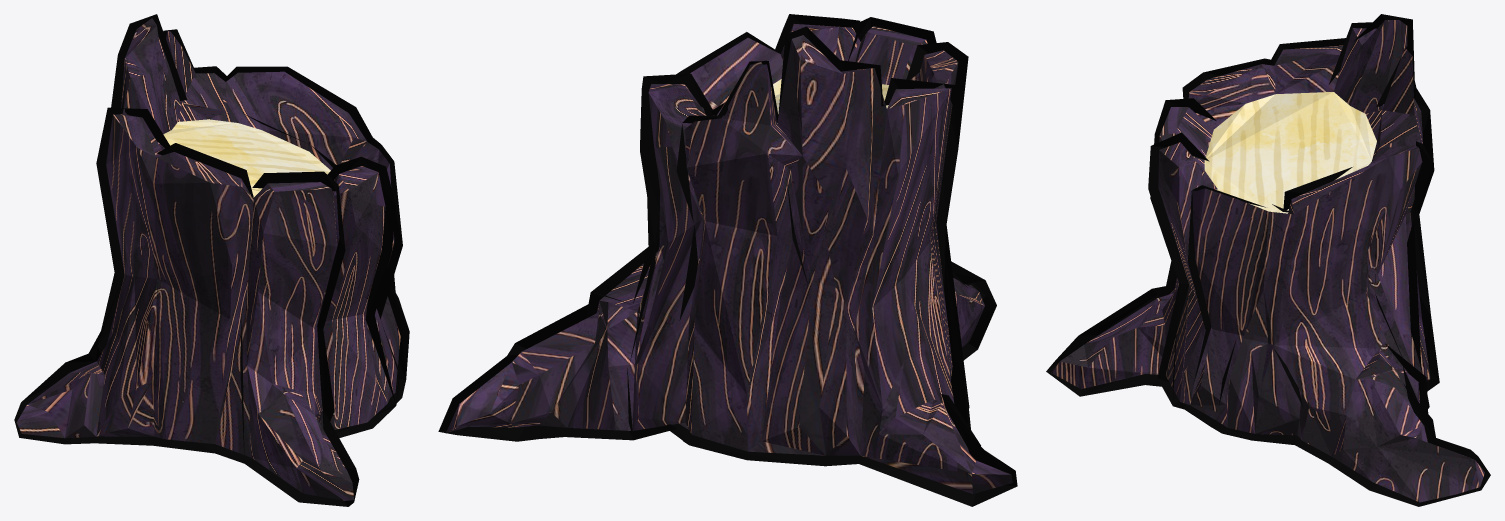
File: entity165116.gltf
The picture shows the model from 3 angles, left to right: view 1: azimuth 30°, elevation 25°; view 2: azimuth 150°, elevation 25°; view 3: azimuth 270°, elevation 25°; orthographic projection. The views are drawn at different scales.
Visible parts, largest first — view 1: node_Tree_Trunk_011; view 2: node_Tree_Trunk_011; view 3: node_Tree_Trunk_011.
Boxes of the visible parts, x1,y1,x2,y2 form: node_Tree_Trunk_011: [14, 14, 409, 506]; node_Tree_Trunk_011: [438, 14, 1017, 506]; node_Tree_Trunk_011: [1046, 14, 1490, 506].
Size of what is drawn, in the model's own units: 3.42 by 3.02 by 3.26.
